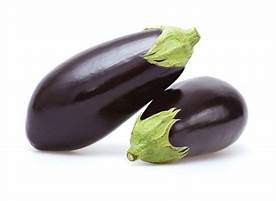fruit_eggplant: (19, 25, 201, 154), (123, 75, 251, 166)
